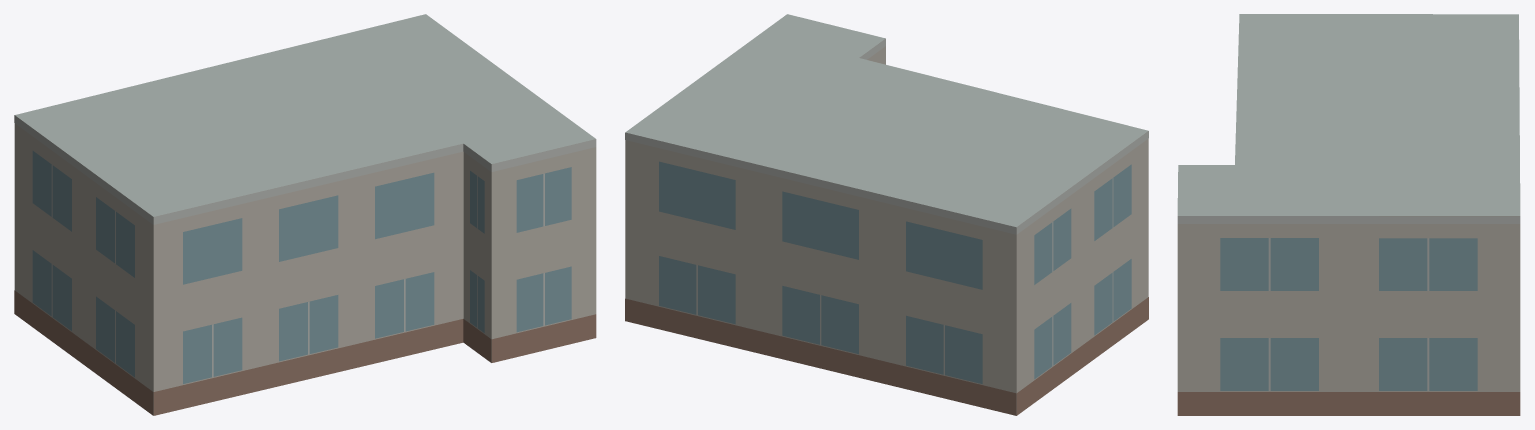
File: survey-upis-32532718.glb
The picture shows the model from 3 angles, left to right: view 1: azimuth 30°, elevation 25°; view 2: azimuth 150°, elevation 25°; view 3: azimuth 270°, elevation 25°; orthographic projection. The views are drawn at different scales.
Parts seen in each view (by area): view 1: survey-upis-32532718.tmp; view 2: survey-upis-32532718.tmp; view 3: survey-upis-32532718.tmp.
Part boxes in pixels (x1,y1,x2,y2): survey-upis-32532718.tmp: [14, 14, 596, 415]; survey-upis-32532718.tmp: [625, 14, 1148, 415]; survey-upis-32532718.tmp: [1177, 14, 1520, 415].
Size of the model in its own units: 13.25 by 6.1 by 9.5.
